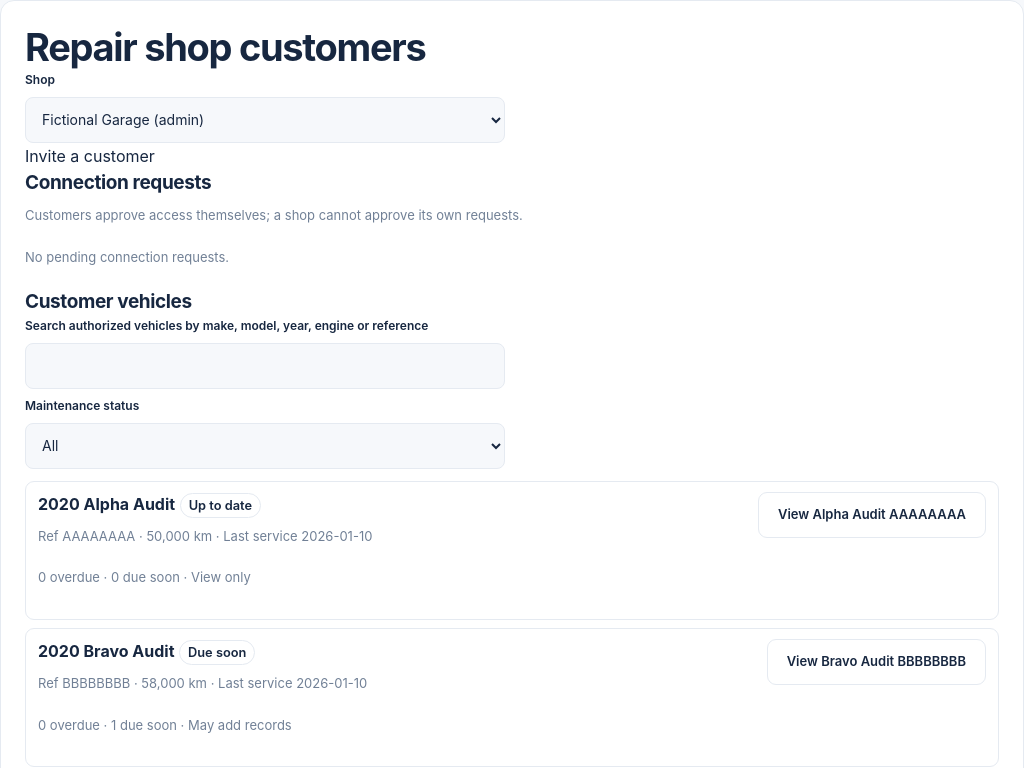
Scenario: opens sanitized history with a fresh authorization check
Expected: the text "2020 Alpha Audit" is shown, [38,494,175,514]
Click the button "View Alpha Audit AAAAAAAA": (872, 515) [758,492,986,538]
(page scrolled)
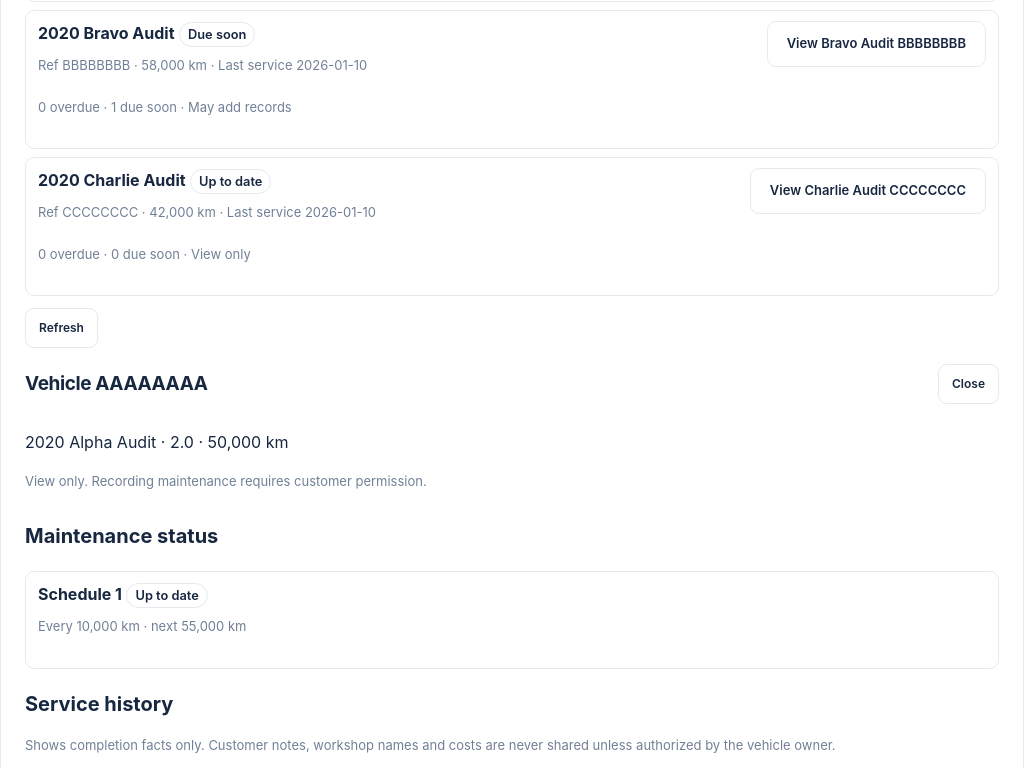
Expected: the heading "Vehicle AAAAAAAA" is shown, [25,370,208,398]
Expected: the text "never shared" is shown, [25,736,836,752]
Expected: the text "Schedule 1" is shown, [38,584,122,604]
Click the button "Close": (968, 384) [938,364,999,404]
(page scrolled)
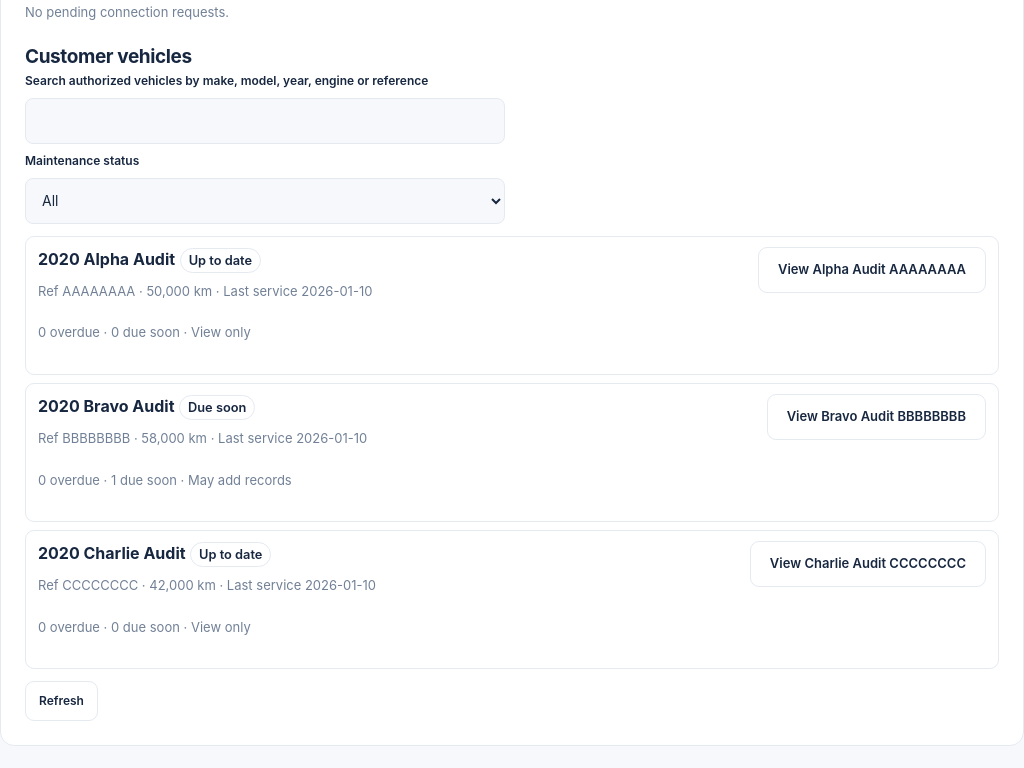
Expected: the heading "Vehicle AAAAAAAA" is gone
